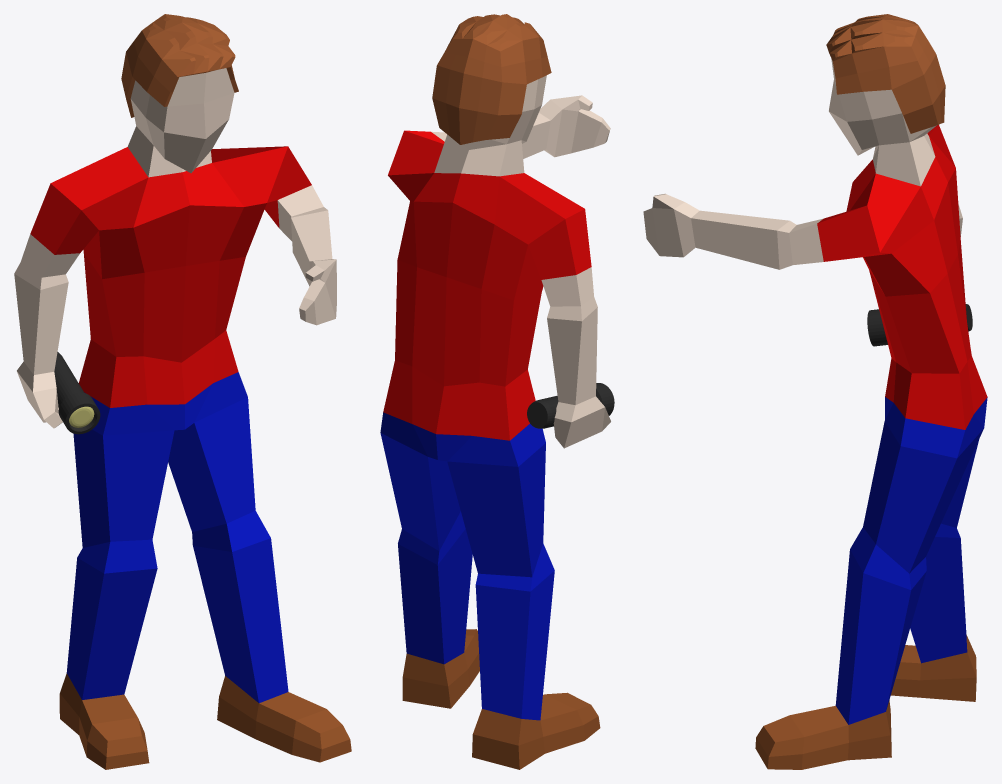
The model's file is Human_grabbing_33.fbx.
The picture shows the model from 3 angles, left to right: view 1: azimuth 30°, elevation 25°; view 2: azimuth 150°, elevation 25°; view 3: azimuth 270°, elevation 25°; orthographic projection. The views are drawn at different scales.
Parts seen in each view (by area): view 1: Person.003, Cylinder.002; view 2: Person.003, Cylinder.002; view 3: Person.003, Cylinder.002.
Part boxes in pixels (x1,y1,x2,y2): Person.003: (14,14,351,769); Cylinder.002: (54,352,100,434); Person.003: (380,14,610,769); Cylinder.002: (527,383,614,428); Person.003: (643,14,987,769); Cylinder.002: (867,304,972,346).
Bounding box in the file's own units: 0.5567 × 1.56 × 0.699.
